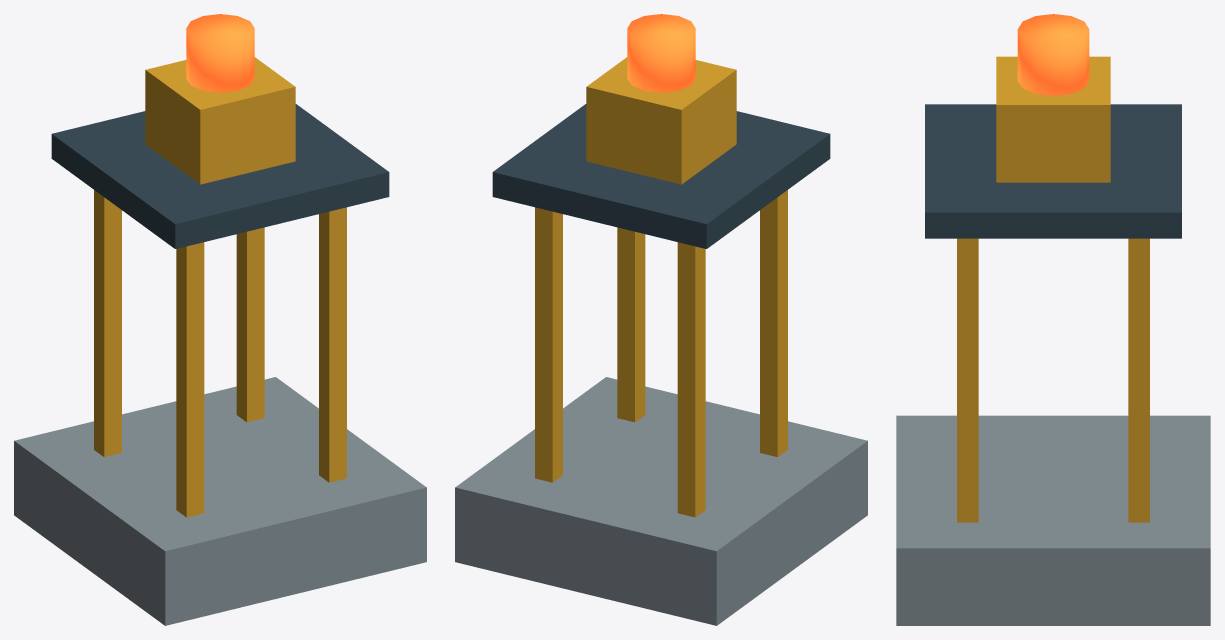
The model's file is HarbourBeacon.glb.
3 renders of one model, left to right at view 1: azimuth 30°, elevation 25°; view 2: azimuth 150°, elevation 25°; view 3: azimuth 270°, elevation 25°, orthographic. The views are drawn at different scales.
Visible parts, largest first — view 1: HarbourBeacon; view 2: HarbourBeacon; view 3: HarbourBeacon.
Part boxes in pixels (left/top/right/bottom): HarbourBeacon: left=14, top=14, right=426, bottom=625; HarbourBeacon: left=455, top=14, right=867, bottom=625; HarbourBeacon: left=896, top=14, right=1210, bottom=625.
Size of the model in its own units: 2.2 by 4.1 by 2.2.
